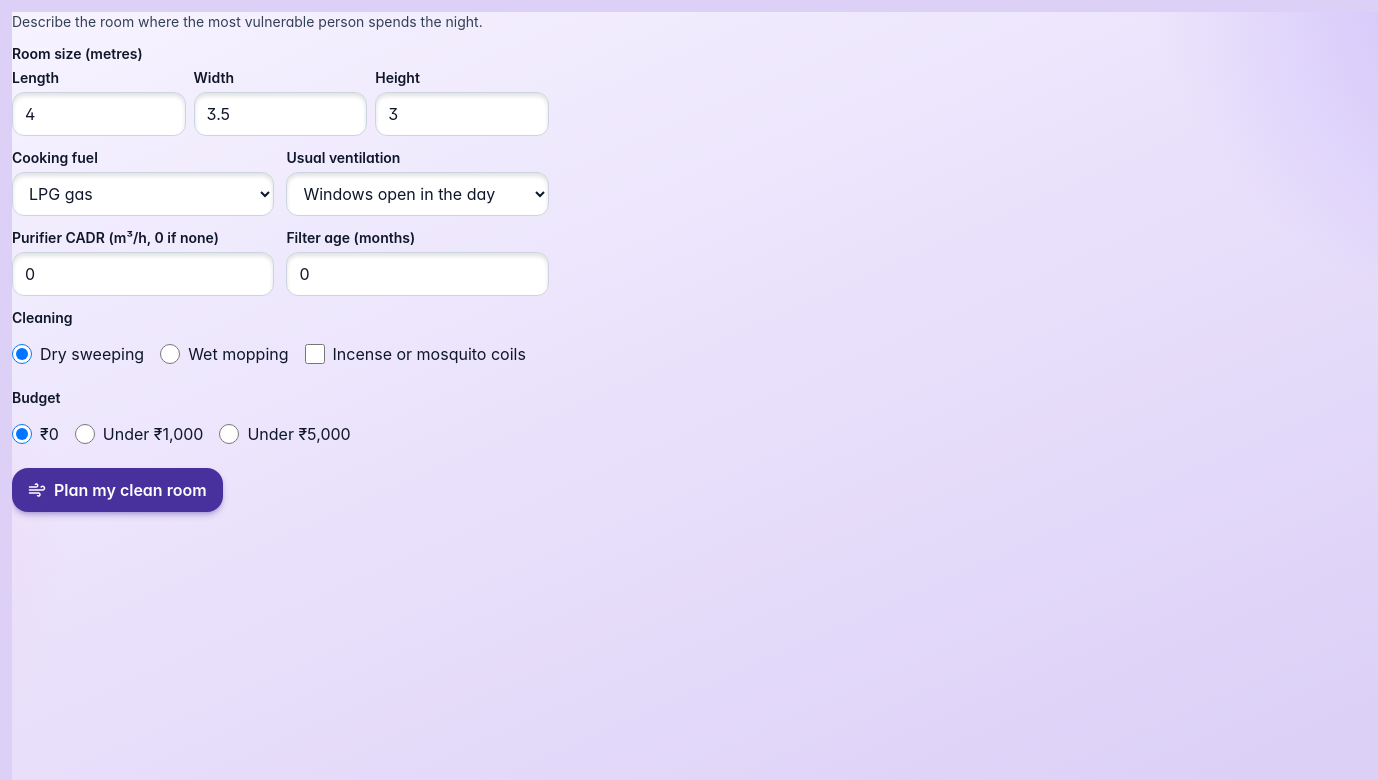
Test: IndoorPlanner › submits the room and lists budget fixes with explanations
The width and height of the screenshot is (1378, 780).
Click the radio button labelled "Under ₹5,000" at x=229, y=434, box left=219, top=424, right=239, bottom=444
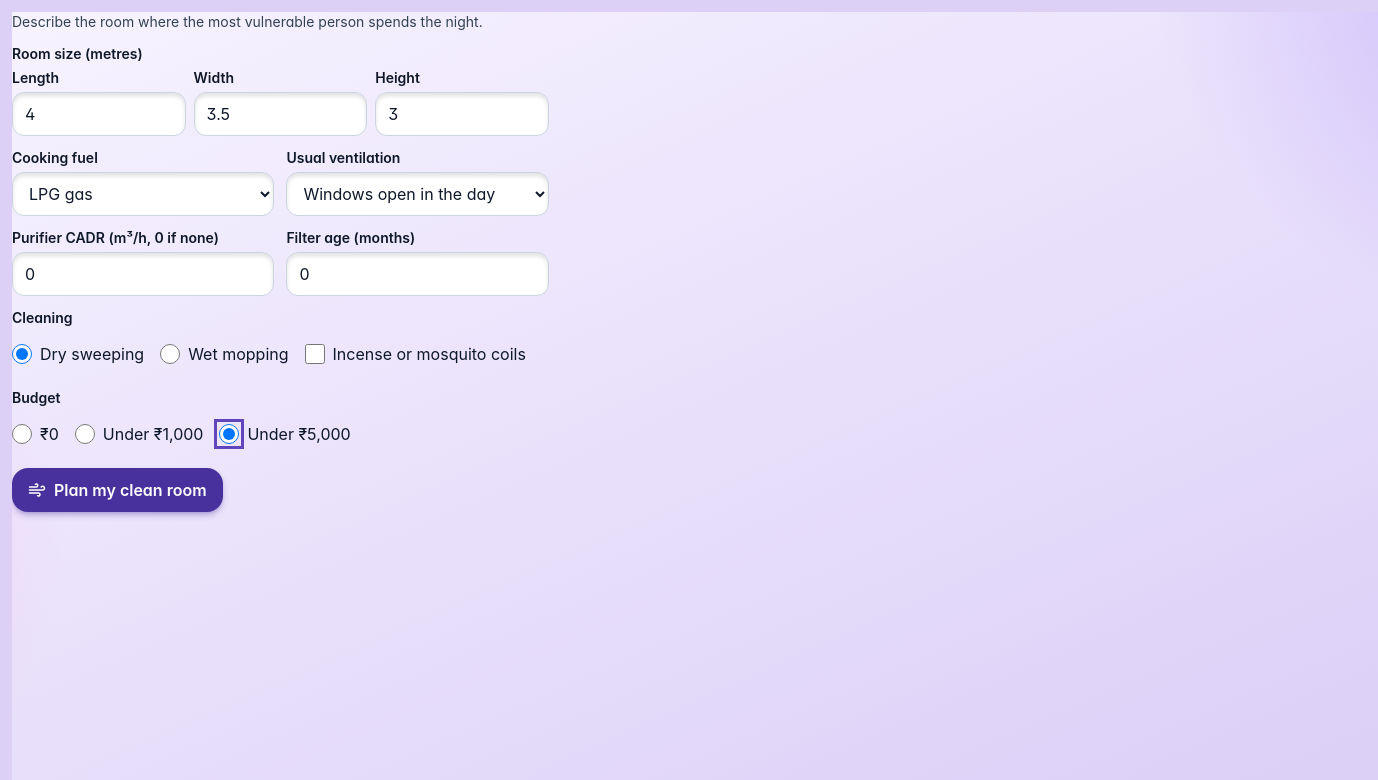
Click the button "Plan my clean room" at x=117, y=490, box left=12, top=468, right=223, bottom=512
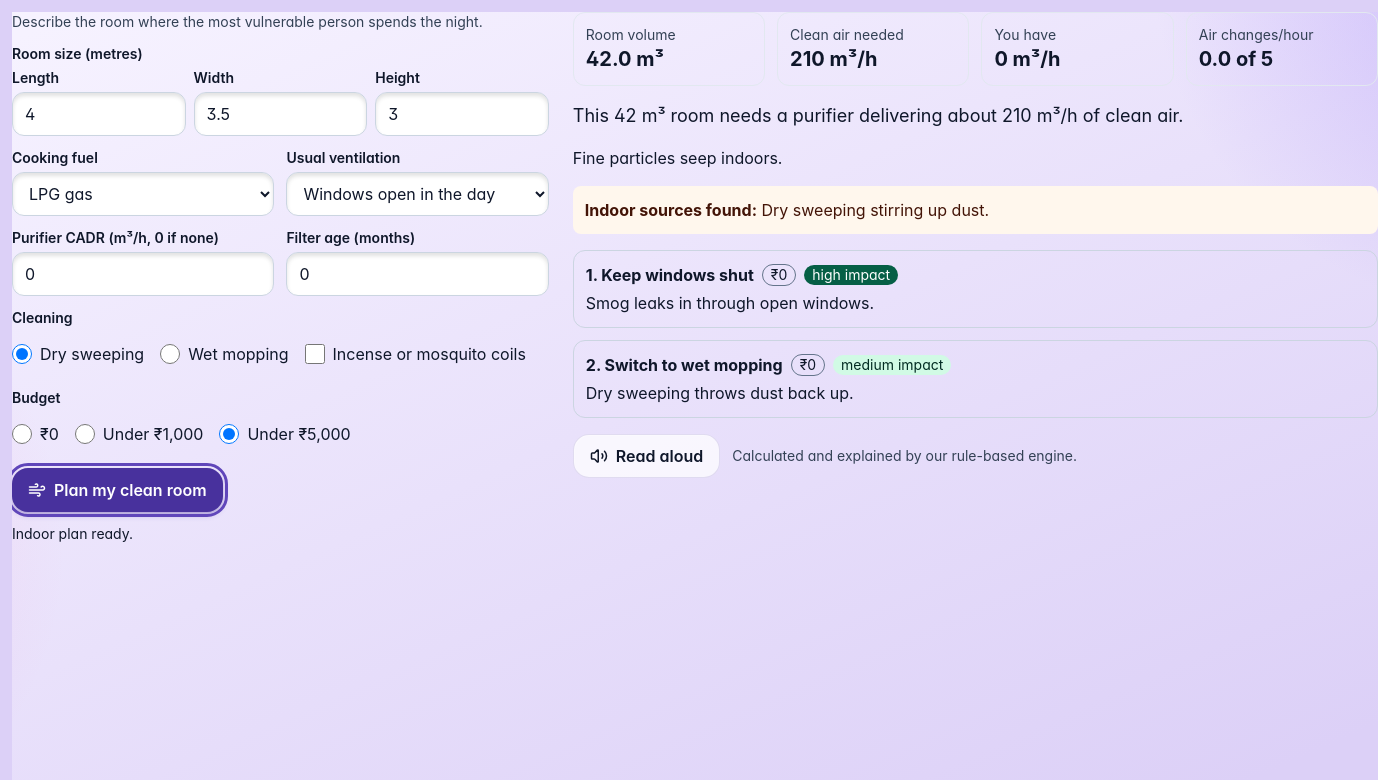
Now the text "210 m³/h of clean air" is shown, box left=573, top=105, right=1183, bottom=126
Now the text "Smog leaks in through open windows." is shown, box left=586, top=293, right=874, bottom=313
